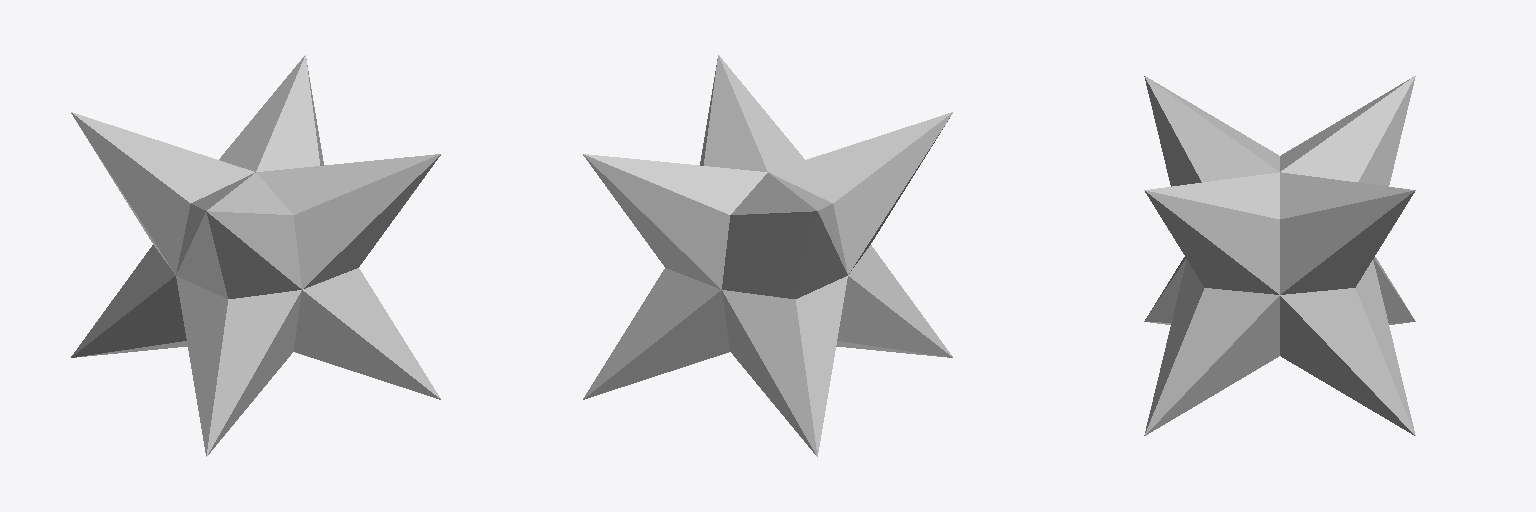
Rendered from great-disdyakis-dodecahedron.obj.
3 renders of one model, left to right at view 1: azimuth 30°, elevation 25°; view 2: azimuth 150°, elevation 25°; view 3: azimuth 270°, elevation 25°, orthographic.
Visible parts, largest first — view 1: Great_Disdyakisdodecahedron_(Dual_of_8/3.4.6),_WD93,_p92; view 2: Great_Disdyakisdodecahedron_(Dual_of_8/3.4.6),_WD93,_p92; view 3: Great_Disdyakisdodecahedron_(Dual_of_8/3.4.6),_WD93,_p92.
Boxes of the visible parts, x1=… form: Great_Disdyakisdodecahedron_(Dual_of_8/3.4.6),_WD93,_p92: x1=71, y1=55, x2=440, y2=456; Great_Disdyakisdodecahedron_(Dual_of_8/3.4.6),_WD93,_p92: x1=583, y1=55, x2=952, y2=456; Great_Disdyakisdodecahedron_(Dual_of_8/3.4.6),_WD93,_p92: x1=1144, y1=76, x2=1415, y2=435.
Bounding box in the file's own units: 7.58 × 7.58 × 7.58.